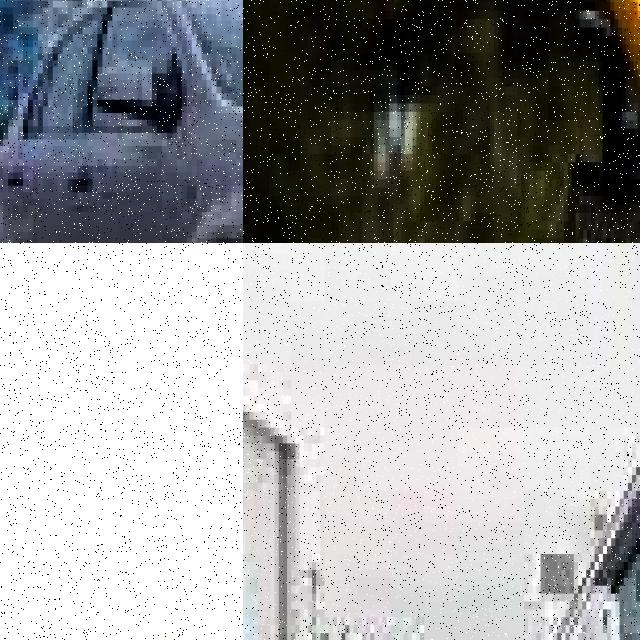bike: (16, 481, 243, 640), (544, 0, 640, 243)
car: (243, 340, 640, 640), (0, 0, 243, 243)
